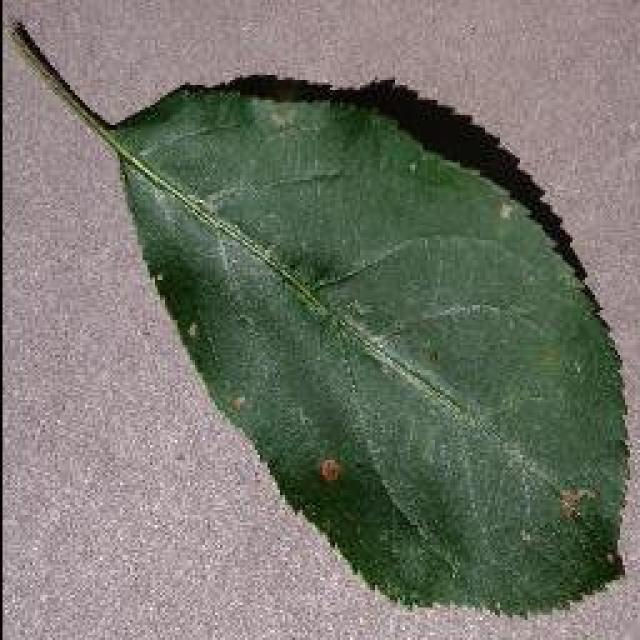Black_rot: (10, 18, 632, 620)
